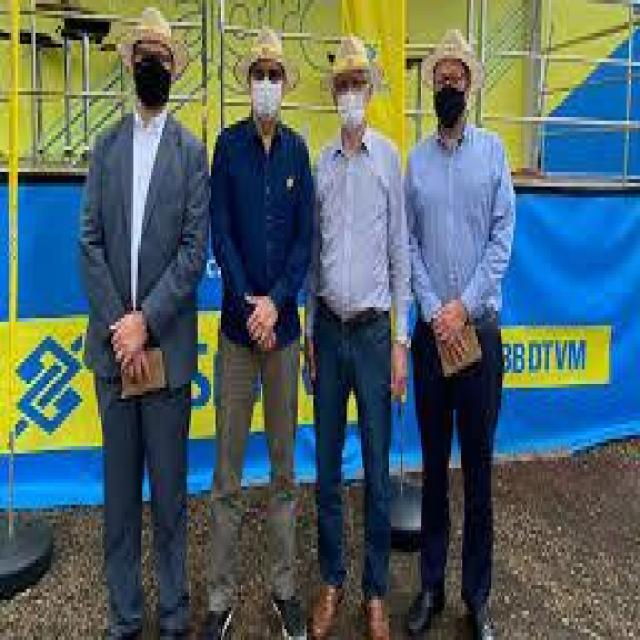person: (211, 4, 338, 632), (78, 11, 202, 618), (402, 11, 514, 636), (309, 18, 393, 618)
